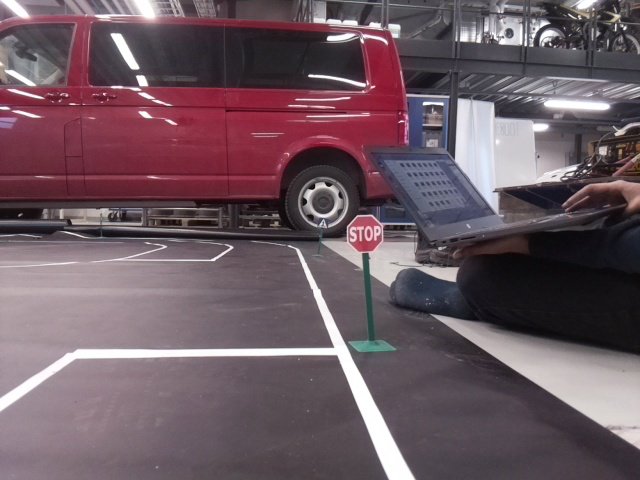Crosswalk: (317, 217, 328, 228)
Stop: (346, 214, 383, 252)
